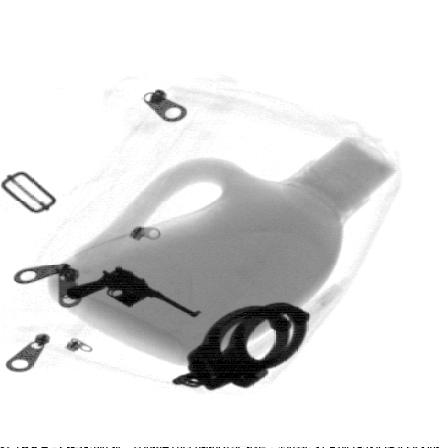Gun: (65, 265, 200, 317)
HandCuffs: (171, 301, 309, 390)
